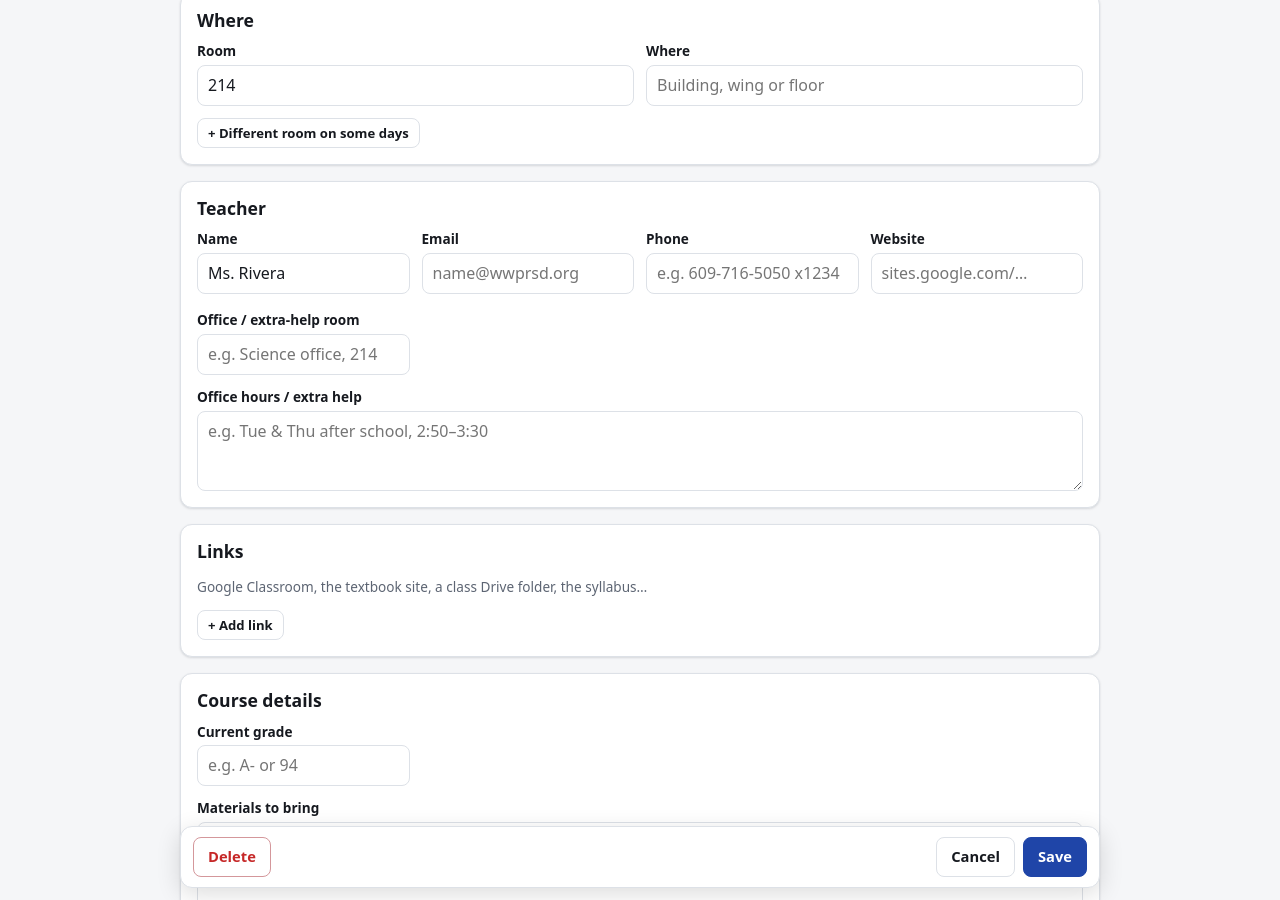
it: ClassEditPage: unsaved changes › leaves without asking after deleting the class
(page scrolled)
Type "Tue after school" into the text box labelled "Office hours / extra help" at (640, 451), box [197,411,1083,491]
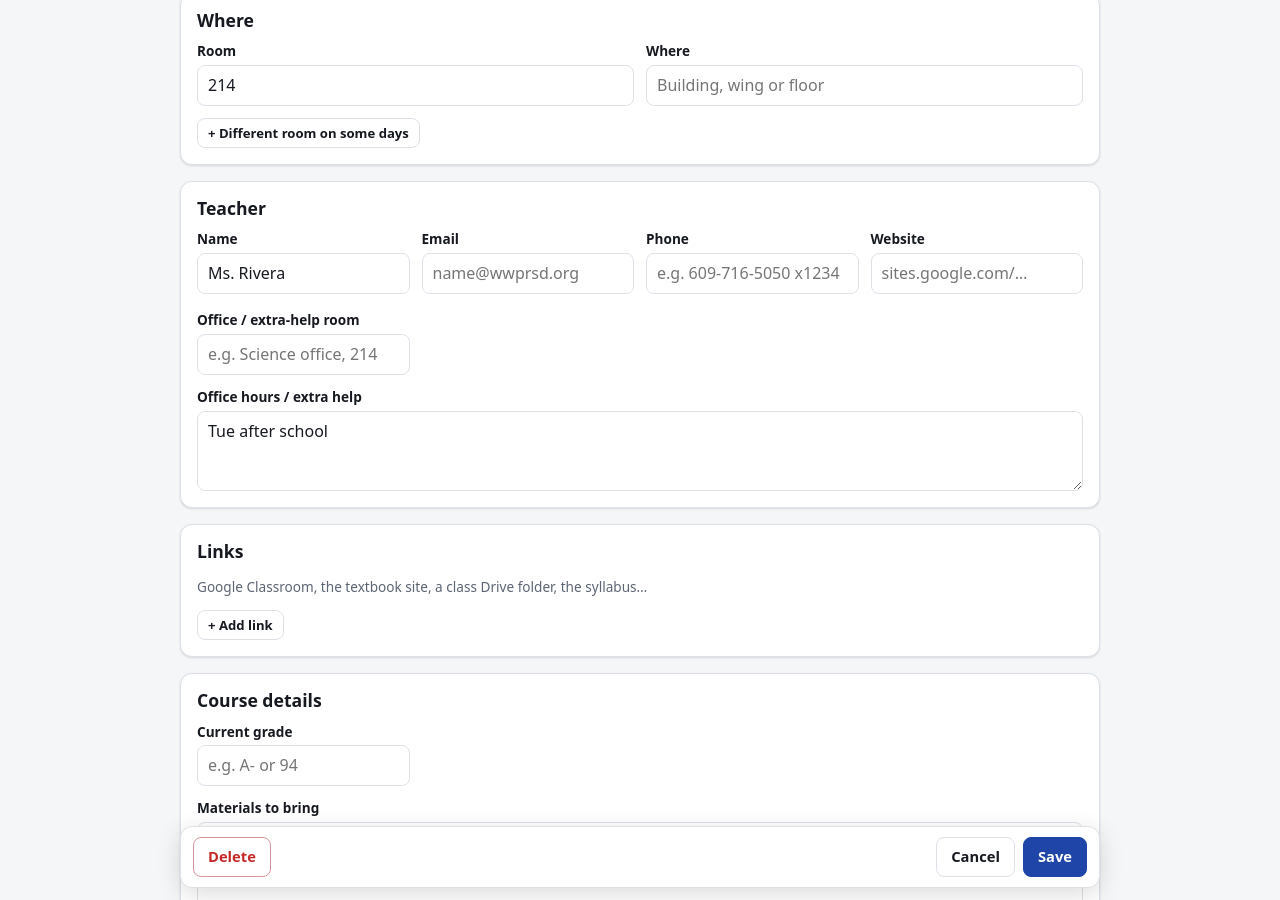
Click the button "Delete" at (232, 857), box [193,838,271,877]
(page scrolled)
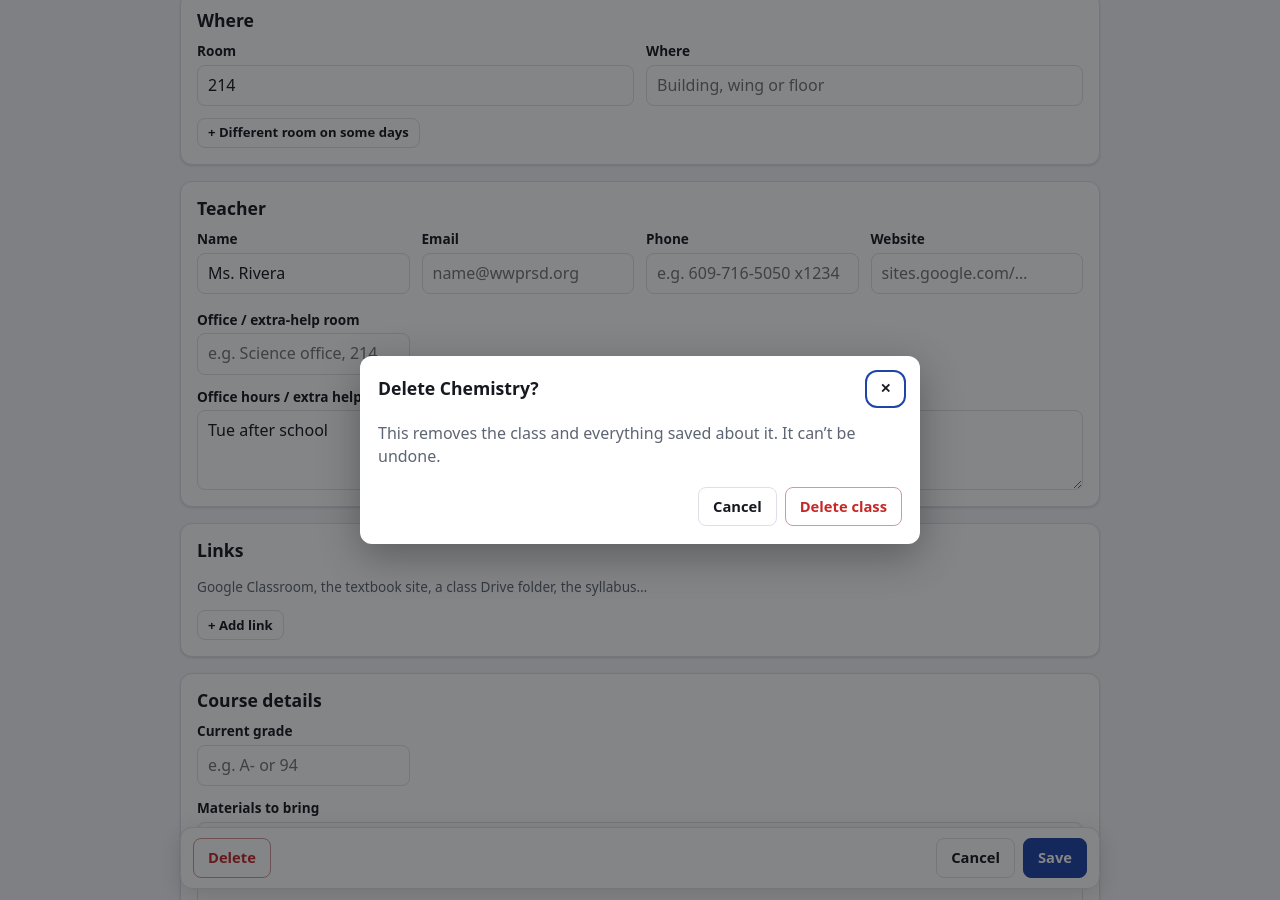
Check: the heading "Delete Chemistry?" is shown, box [378,378,539,399]
Click the button "Delete class" at (843, 507), box [785,487,902,526]
(page scrolled)
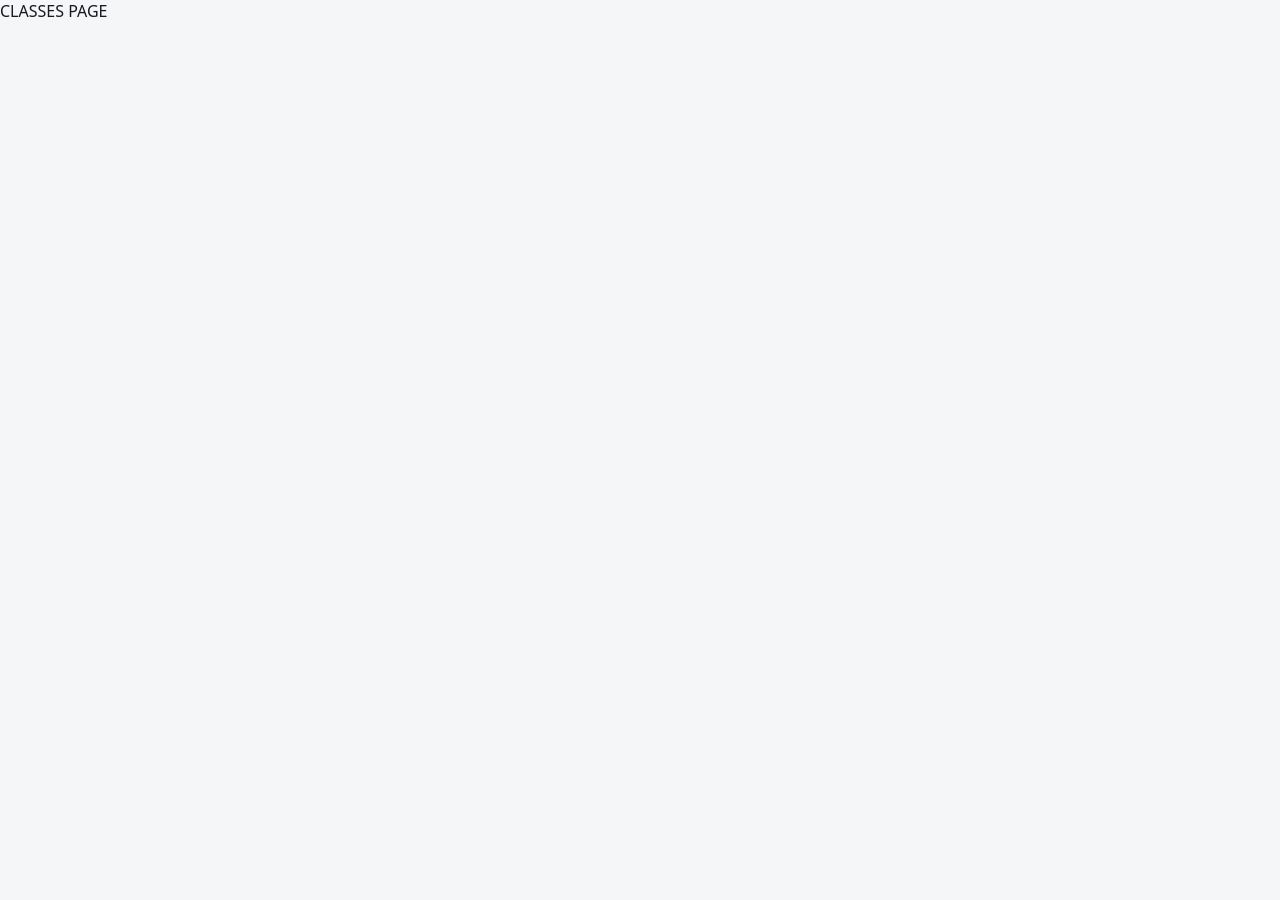
Check: the heading "Where" is gone
